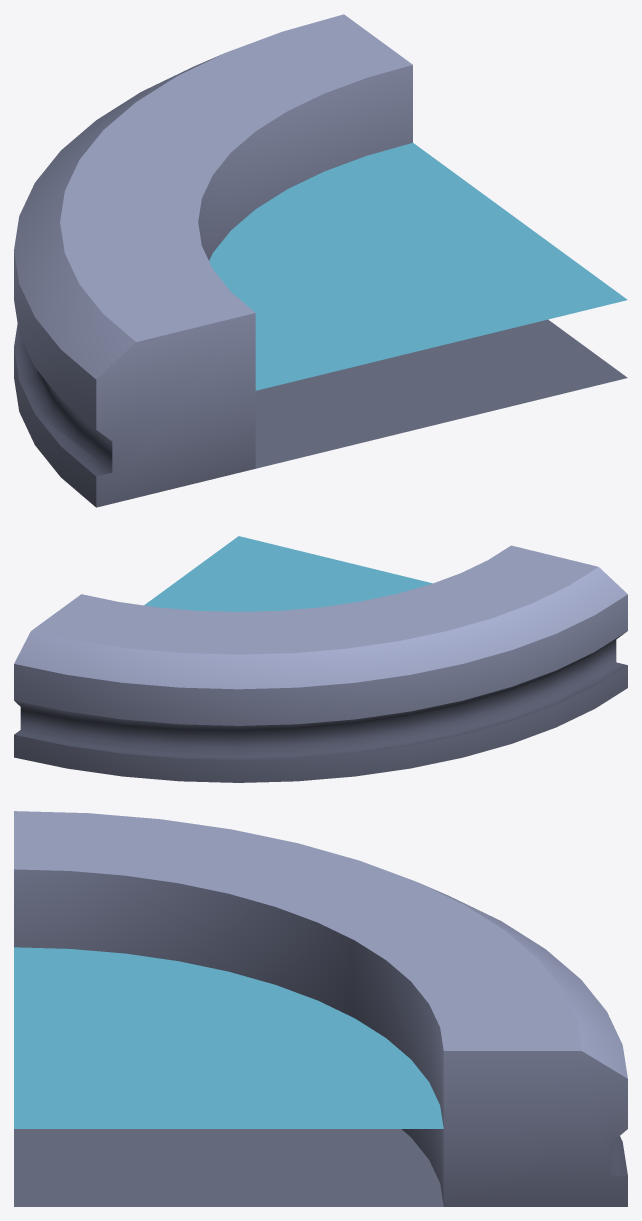
The model's file is fountain-curved.glb.
3 renders of one model, top to bottom at view 1: azimuth 30°, elevation 25°; view 2: azimuth 150°, elevation 25°; view 3: azimuth 270°, elevation 25°, orthographic. The views are drawn at different scales.
Parts seen in each view (by area): view 1: fountain-curved; view 2: fountain-curved; view 3: fountain-curved.
Boxes of the visible parts, x1=… form: fountain-curved: x1=14, y1=14, x2=627, y2=507; fountain-curved: x1=14, y1=536, x2=627, y2=782; fountain-curved: x1=14, y1=811, x2=627, y2=1206.
Bounding box in the file's own units: 1 × 0.28 × 1.
